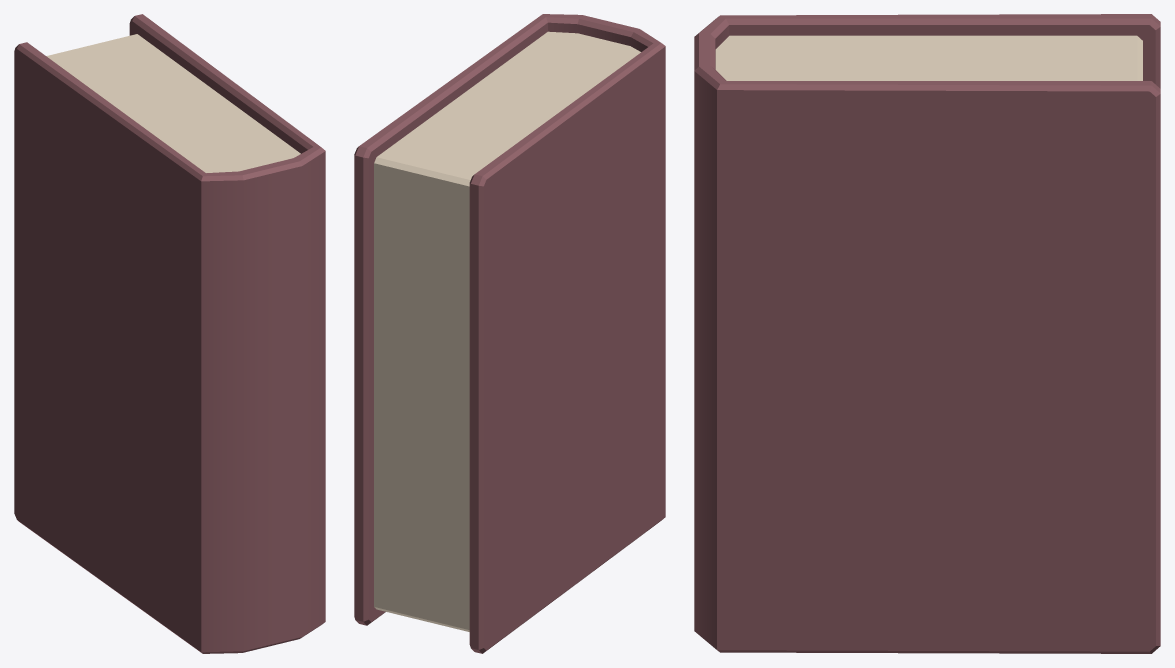
Rendered from book.glb.
3 renders of one model, left to right at view 1: azimuth 30°, elevation 25°; view 2: azimuth 150°, elevation 25°; view 3: azimuth 270°, elevation 25°, orthographic. The views are drawn at different scales.
Visible parts, largest first — view 1: book; view 2: book; view 3: book.
Boxes of the visible parts, x1,y1,x2,y2 form: book: (14,14,325,653); book: (354,14,665,653); book: (694,14,1160,653).
Size of the model in its own units: 0.1799 by 0.6338 by 0.4714.
